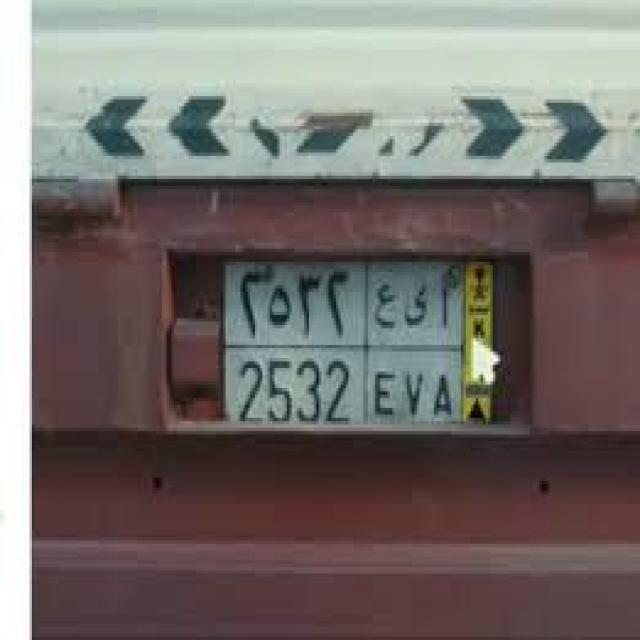license_plate: (187, 218, 522, 458)
